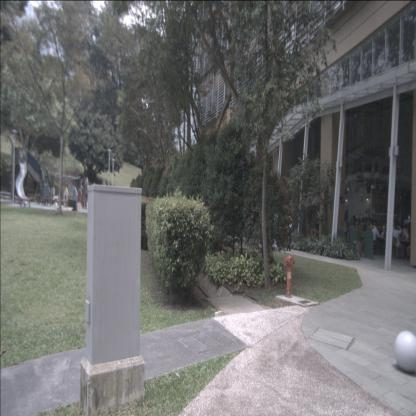human-pedestrian-adult: (392, 222, 405, 257), (372, 222, 383, 256), (378, 224, 384, 254), (369, 219, 374, 244)
